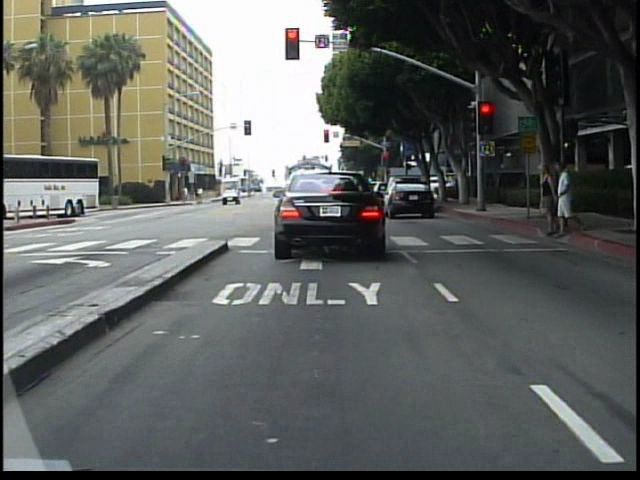person: (554, 160, 578, 239), (535, 162, 556, 238)
